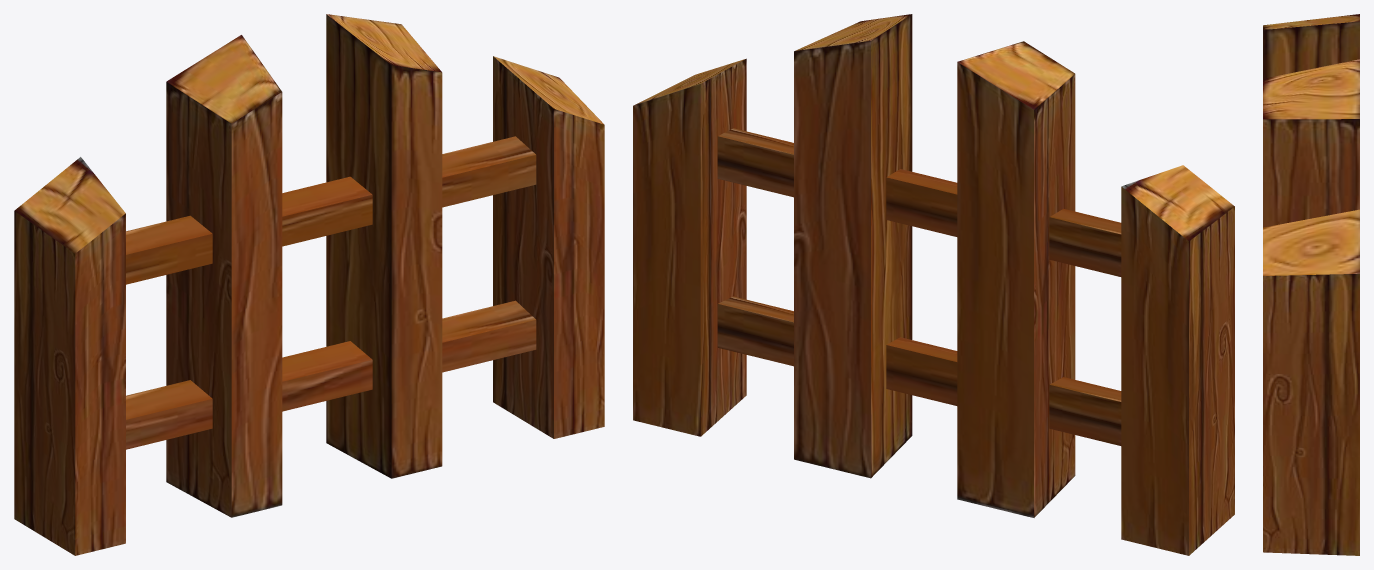
The model's file is fence3.fbx.
3 views of the same model, side by side, from view 1: azimuth 30°, elevation 25°; view 2: azimuth 150°, elevation 25°; view 3: azimuth 270°, elevation 25° (orthographic). The views are drawn at different scales.
Parts seen in each view (by area): view 1: Zabor_01; view 2: Zabor_01; view 3: Zabor_01.
Part boxes in pixels (box(x1,y1,x2,y2)): Zabor_01: box(14, 14, 604, 555); Zabor_01: box(633, 14, 1234, 555); Zabor_01: box(1263, 14, 1359, 555).
Size of the model in its own units: 1647 by 1239 by 277.
Materials: 1 (1 with a texture image).
